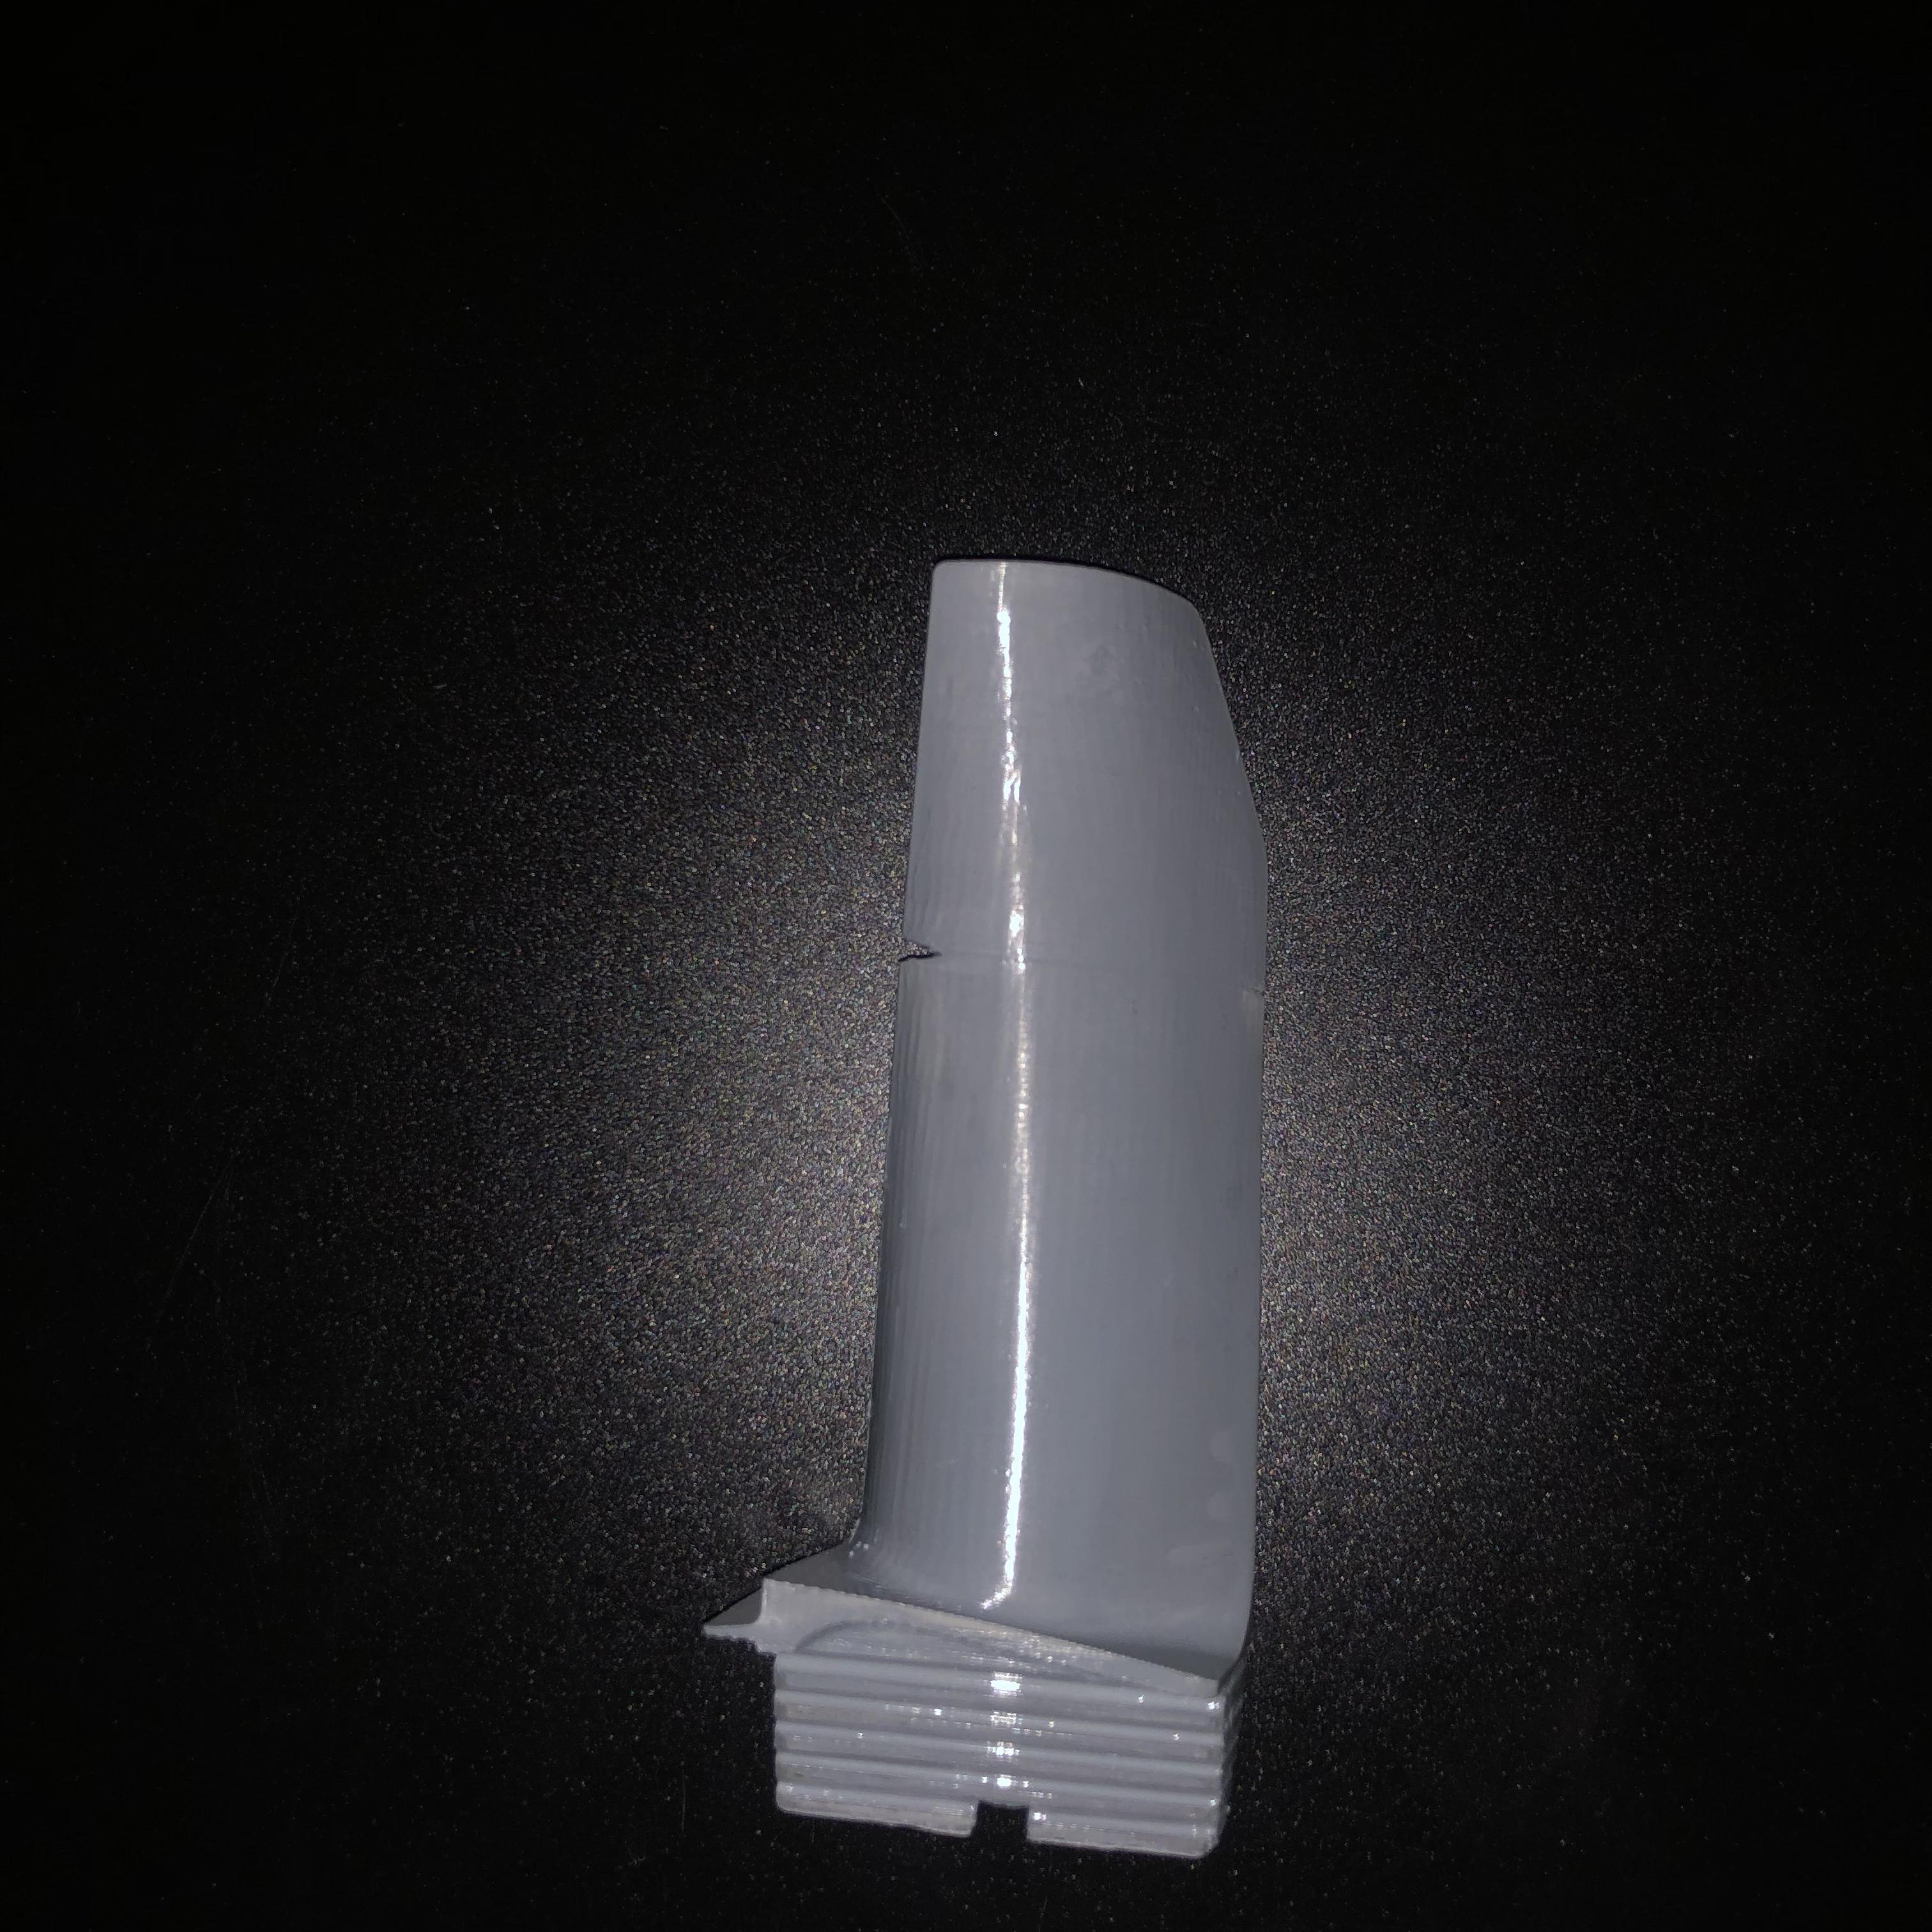groove: (897, 929, 948, 973)
